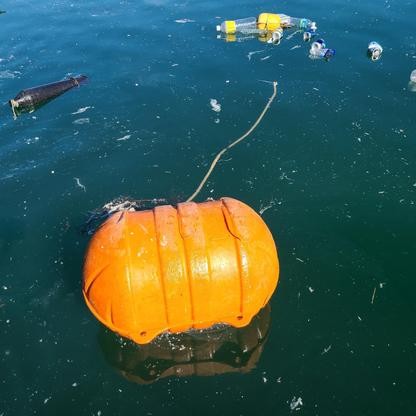can: (369, 40, 383, 57), (311, 39, 325, 48), (303, 32, 320, 39), (274, 28, 284, 39)
plastic bottle: (214, 17, 258, 34), (281, 12, 316, 29)
